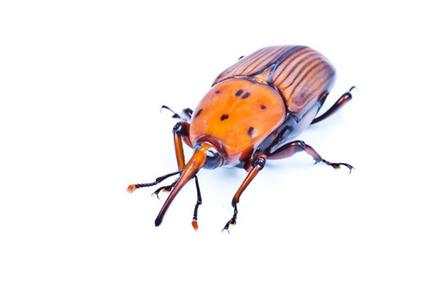Curculionidae: (127, 43, 356, 233)
